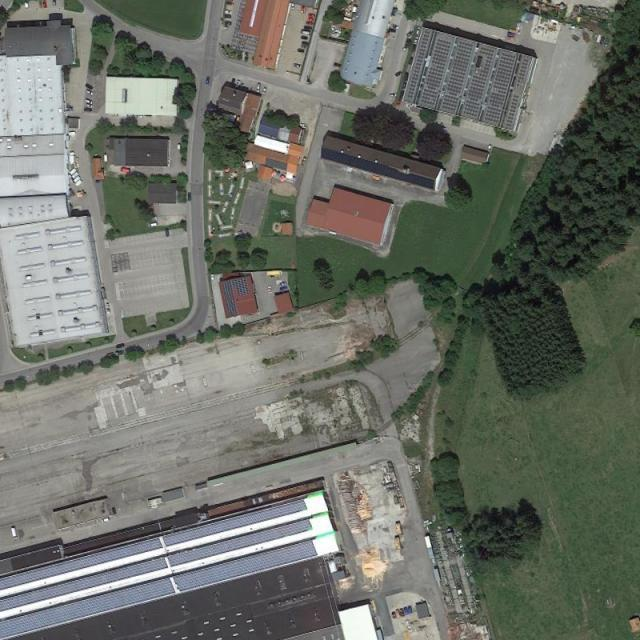vehicle: (11, 527, 18, 542), (389, 22, 401, 30), (68, 168, 77, 178), (115, 342, 126, 350), (266, 270, 283, 275), (255, 82, 262, 94), (119, 167, 132, 173), (147, 222, 158, 229), (300, 30, 312, 36), (69, 152, 74, 165), (85, 82, 93, 90), (395, 70, 404, 77), (394, 610, 401, 619), (84, 107, 94, 113), (399, 608, 405, 618), (415, 26, 421, 36), (71, 171, 78, 179), (391, 610, 397, 619), (403, 606, 408, 616), (165, 227, 170, 237), (303, 25, 313, 30), (73, 175, 80, 182), (86, 90, 94, 96), (86, 99, 94, 105), (407, 606, 413, 614), (101, 518, 109, 524), (188, 192, 192, 203), (279, 282, 286, 288), (224, 9, 232, 14), (306, 21, 314, 26), (262, 86, 266, 96), (413, 36, 418, 44), (308, 14, 317, 18), (389, 93, 398, 97), (111, 508, 117, 514), (294, 63, 301, 68), (206, 76, 210, 84), (223, 14, 231, 18), (268, 286, 272, 294), (281, 286, 287, 291), (298, 48, 305, 52), (177, 143, 181, 150), (211, 274, 215, 281), (86, 105, 93, 107)
